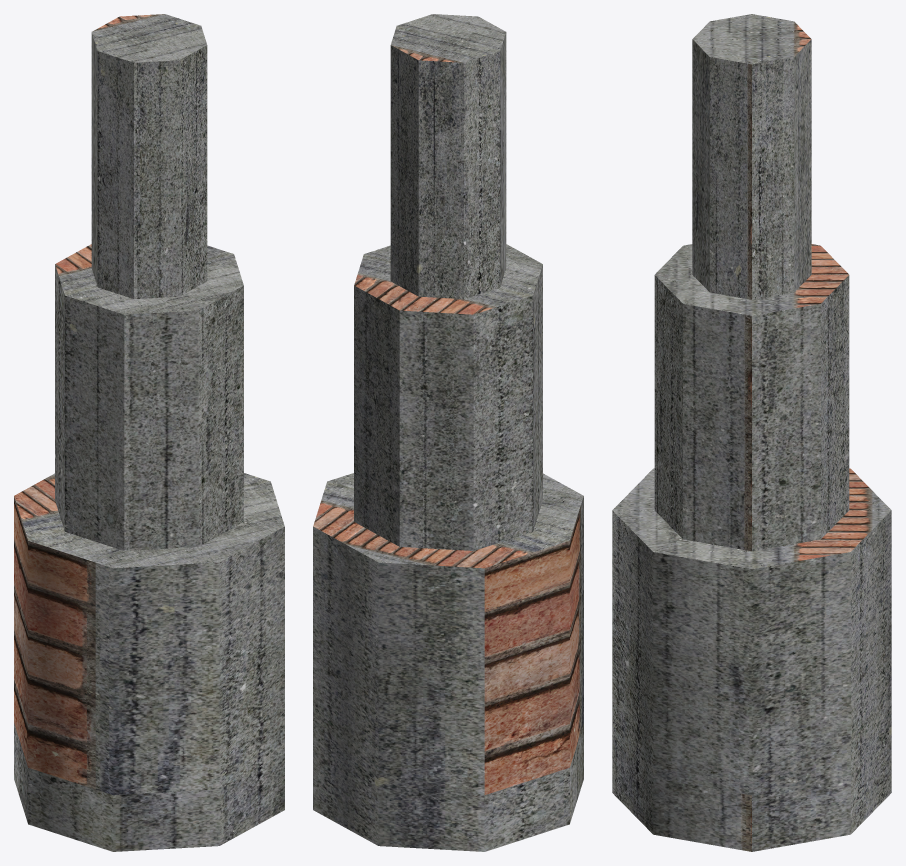
Rendered from newColumnaCentral.fbx.
The picture shows the model from 3 angles, left to right: view 1: azimuth 30°, elevation 25°; view 2: azimuth 150°, elevation 25°; view 3: azimuth 270°, elevation 25°; orthographic projection.
Parts seen in each view (by area): view 1: Columna Central1; view 2: Columna Central1; view 3: Columna Central1.
Part boxes in pixels (left/top/right/bottom): Columna Central1: left=14, top=14, right=284, bottom=851; Columna Central1: left=313, top=14, right=583, bottom=851; Columna Central1: left=612, top=14, right=891, bottom=851.
Size of the model in its own units: 78.74 by 234 by 78.74.
1 material, 1 textured.
